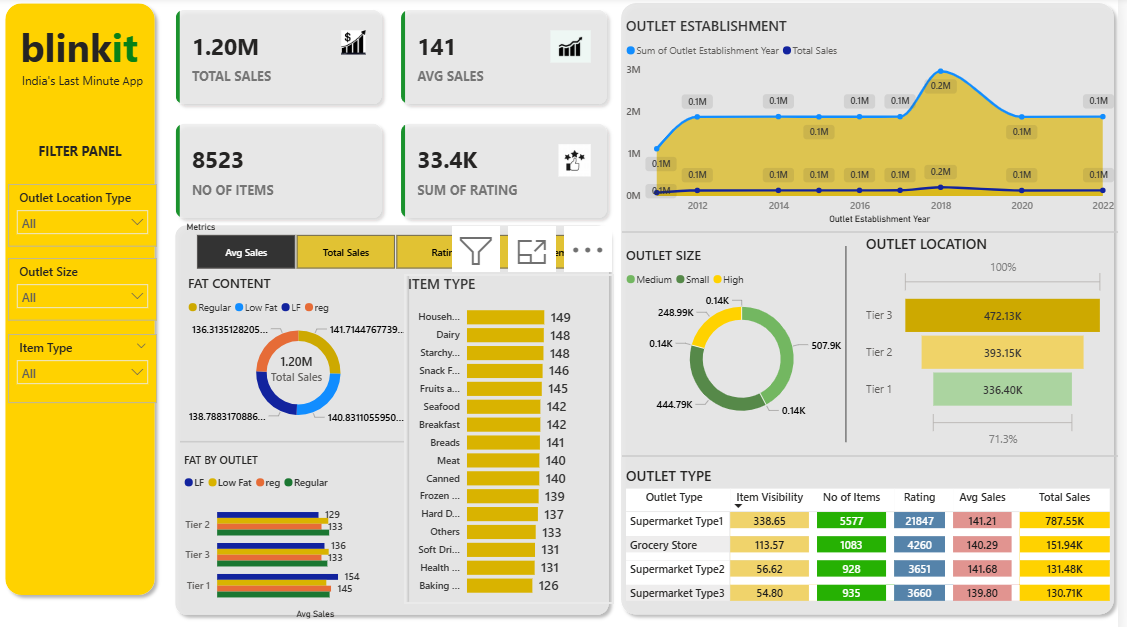

The page's visual inventory and layout, read from the dashboard file:
{"tool":"powerbi","page":{"name":"Page 1","canvas":[1400,800],"ordinal":0},"visuals":[{"type":"shape","box":[13.4,0,203.1,750.8],"z":0},{"type":"textbox","box":[24,24,176.3,90.8],"z":1000},{"type":"textbox","box":[24,88.2,181.7,48.1],"z":2000},{"type":"cardVisual","fields":{"Data":["BlinkIT Grocery Data.Total Sales","BlinkIT Grocery Data.Avg Sales","BlinkIT Grocery Data.No of Items","Sum(BlinkIT Grocery Data.Rating)"]},"box":[216.4,0,569.1,293.9],"z":3000},{"type":"shape","box":[222.9,274.9,554.8,500.3],"z":4000},{"type":"donutChart","title":"FAT CONTENT","fields":{"Y":["BlinkIT Grocery Data.Avg Sales","BlinkIT Grocery Data.Avg Sales"],"Category":["BlinkIT Grocery Data.Item Fat Content"]},"box":[243.1,344.7,283.2,195],"z":5000},{"type":"slicer","fields":{"Values":["Metrics 2.Metrics"]},"box":[232.4,275.2,542.4,69.5],"z":6000},{"type":"cardVisual","fields":{"Data":["BlinkIT Grocery Data.Total Sales"]},"box":[320.6,400.8,125.6,120.2],"z":7000},{"type":"clusteredBarChart","title":"FAT BY OUTLET","fields":{"Y":["BlinkIT Grocery Data.Avg Sales"],"Category":["BlinkIT Grocery Data.Outlet Location Type"],"Series":["BlinkIT Grocery Data.Item Fat Content"]},"box":[237.8,563.7,293.9,211.1],"z":8000},{"type":"shape","box":[237.8,539.7,277.9,24],"z":9000},{"type":"shape","box":[515.6,344.7,10.7,406.1],"z":10000},{"type":"barChart","title":"ITEM TYPE","fields":{"Y":["BlinkIT Grocery Data.Avg Sales","BlinkIT Grocery Data.Avg Sales"],"Category":["BlinkIT Grocery Data.Item Type"]},"box":[515.6,344.7,259.2,408.8],"z":11000},{"type":"shape","box":[774.8,0,627.9,774.8],"z":12000},{"type":"lineChart","title":"OUTLET ESTABLISHMENT","fields":{"Y":["Sum(BlinkIT Grocery Data.Outlet Establishment Year)","BlinkIT Grocery Data.Total Sales"],"Category":["BlinkIT Grocery Data.Outlet Establishment Year"]},"box":[785.5,24,614.5,261.8],"z":13000},{"type":"shape","box":[785.5,275.2,614.5,34.7],"z":14000},{"type":"donutChart","title":"OUTLET SIZE","fields":{"Y":["BlinkIT Grocery Data.Total Sales","BlinkIT Grocery Data.Avg Sales","BlinkIT Grocery Data.Avg Sales"],"Category":["BlinkIT Grocery Data.Outlet Size"]},"box":[785.5,309.9,296.6,229.8],"z":15000},{"type":"shape","box":[1031.3,309.9,64.1,243.1],"z":16000},{"type":"funnel","title":"OUTLET LOCATION","fields":{"Category":["BlinkIT Grocery Data.Outlet Location Type"],"Y":["Sum(BlinkIT Grocery Data.Sales)"]},"box":[1082.1,293.9,304.6,269.8],"z":17000},{"type":"shape","box":[785.5,553.1,614.5,34.7],"z":18000},{"type":"pivotTable","title":"OUTLET TYPE","fields":{"Rows":["BlinkIT Grocery Data.Outlet Type"],"Values":["Sum(BlinkIT Grocery Data.Item Visibility)","BlinkIT Grocery Data.No of Items","Sum(BlinkIT Grocery Data.Rating)","BlinkIT Grocery Data.Avg Sales","BlinkIT Grocery Data.Total Sales"]},"box":[785.5,582.4,611.8,192.4],"z":19000},{"type":"slicer","fields":{"Values":["BlinkIT Grocery Data.Outlet Location Type"]},"box":[24,232.4,184.4,77.5],"z":20000},{"type":"slicer","fields":{"Values":["BlinkIT Grocery Data.Outlet Size"]},"box":[24,323.3,184.4,77.5],"z":21000},{"type":"slicer","fields":{"Values":["BlinkIT Grocery Data.Item Type"]},"box":[24,419.5,184.4,85.5],"z":22000},{"type":"textbox","box":[45.4,176.3,138.9,42.7],"z":23000}]}

Visuals, with their boxes in screenshot pixels (x1, y1, x2, y2), scaled from the page's 1400x800 canvas onto the 1127x627 screenshot:
shape: l=11, t=0, r=174, b=588
textbox: l=19, t=19, r=161, b=90
textbox: l=19, t=69, r=166, b=107
cardVisual - BlinkIT Grocery Data.Total Sales x BlinkIT Grocery Data.Avg Sales: l=174, t=0, r=632, b=230
shape: l=179, t=215, r=626, b=608
"FAT CONTENT" donutChart: l=196, t=270, r=424, b=423
slicer - Metrics 2.Metrics: l=187, t=216, r=624, b=270
cardVisual - BlinkIT Grocery Data.Total Sales: l=258, t=314, r=359, b=408
"FAT BY OUTLET" clusteredBarChart: l=191, t=442, r=428, b=607
shape: l=191, t=423, r=415, b=442
shape: l=415, t=270, r=424, b=588
"ITEM TYPE" barChart: l=415, t=270, r=624, b=591
shape: l=624, t=0, r=1126, b=607
"OUTLET ESTABLISHMENT" lineChart: l=632, t=19, r=1126, b=224
shape: l=632, t=216, r=1126, b=243
"OUTLET SIZE" donutChart: l=632, t=243, r=871, b=423
shape: l=830, t=243, r=882, b=433
"OUTLET LOCATION" funnel: l=871, t=230, r=1116, b=442
shape: l=632, t=433, r=1126, b=461
"OUTLET TYPE" pivotTable: l=632, t=456, r=1125, b=607
slicer - BlinkIT Grocery Data.Outlet Location Type: l=19, t=182, r=168, b=243
slicer - BlinkIT Grocery Data.Outlet Size: l=19, t=253, r=168, b=314
slicer - BlinkIT Grocery Data.Item Type: l=19, t=329, r=168, b=396
textbox: l=37, t=138, r=148, b=172
